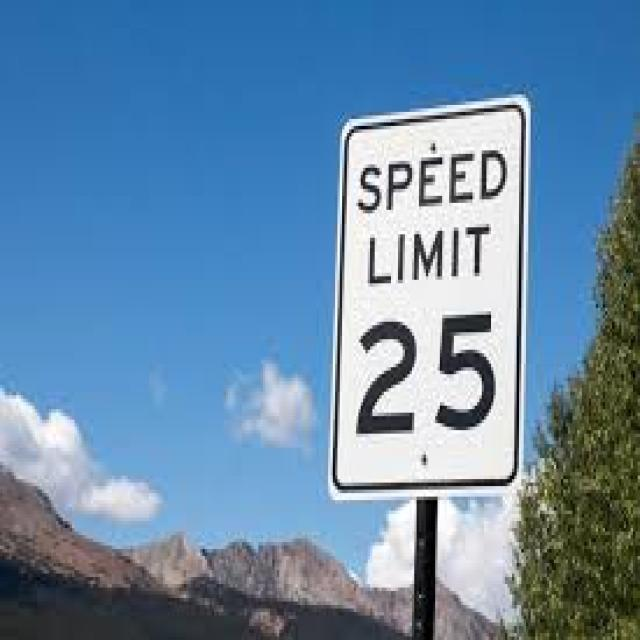speedLimit25: (332, 94, 520, 489)
